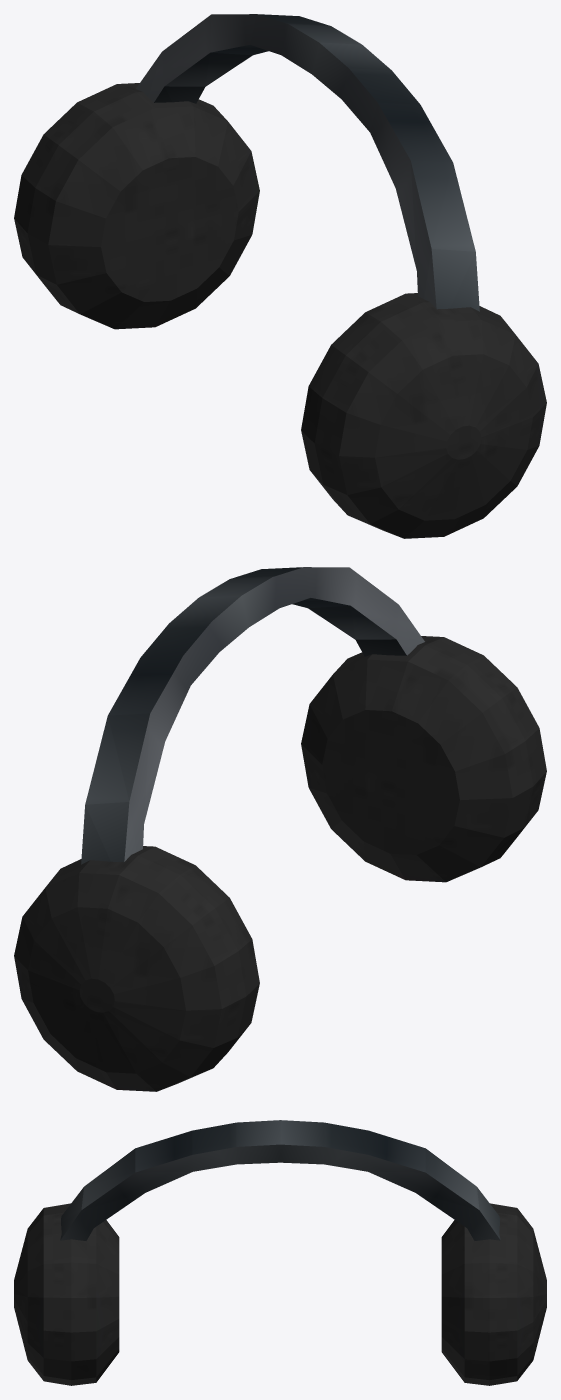
The model's file is BLACK EARMUFFS.fbx.
3 renders of one model, top to bottom at view 1: azimuth 30°, elevation 25°; view 2: azimuth 150°, elevation 25°; view 3: azimuth 270°, elevation 25°, orthographic. The views are drawn at different scales.
Visible parts, largest first — view 1: BLACK_EARMUFFS; view 2: BLACK_EARMUFFS; view 3: BLACK_EARMUFFS.
Part boxes in pixels (x1,y1,x2,y2): BLACK_EARMUFFS: (14,14,546,538); BLACK_EARMUFFS: (14,567,546,1091); BLACK_EARMUFFS: (14,1120,546,1385).
Bounding box in the file's own units: 12.06 × 19.58 × 34.91.
